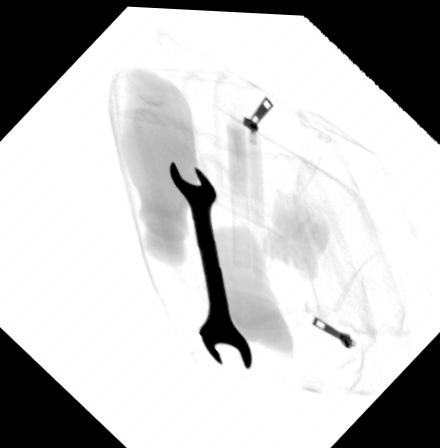Wrench: (168, 155, 253, 367)
